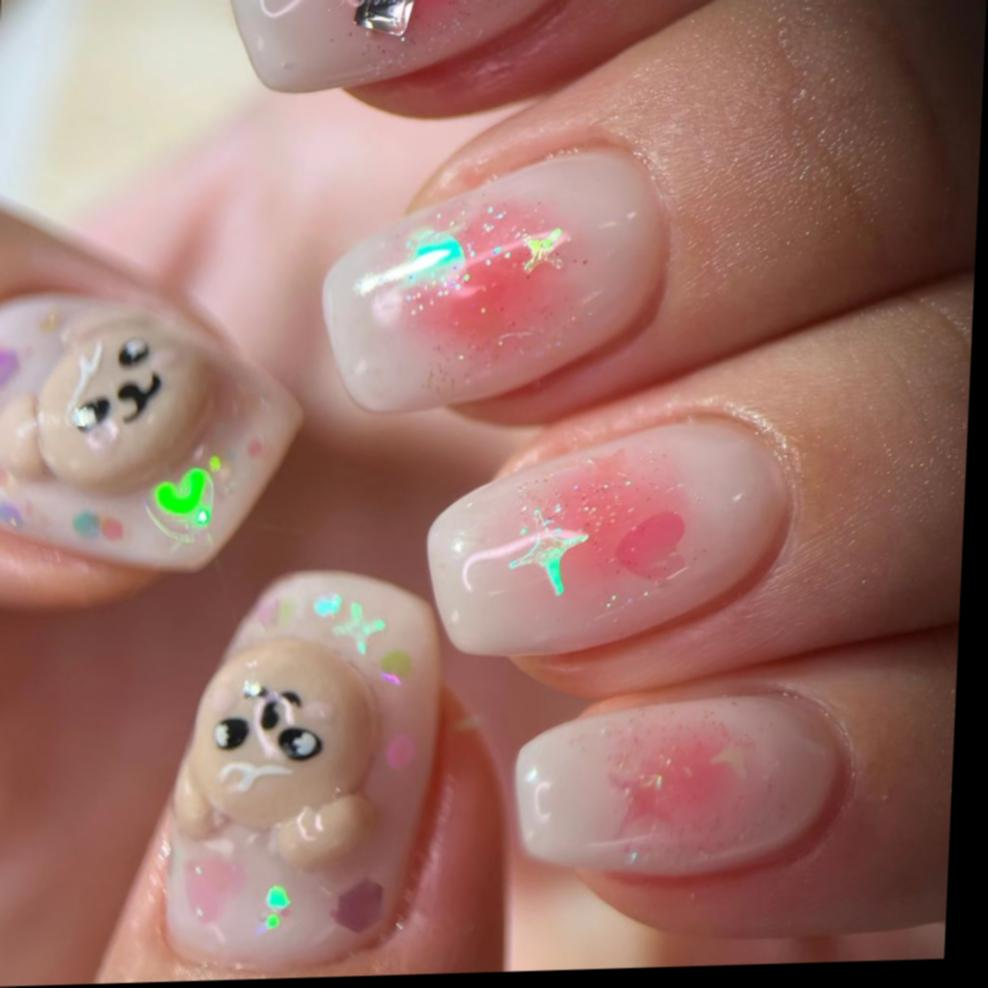nail: (164, 572, 441, 972), (312, 143, 671, 419), (418, 411, 795, 662), (0, 289, 300, 570), (515, 692, 844, 878), (218, 0, 583, 98)
